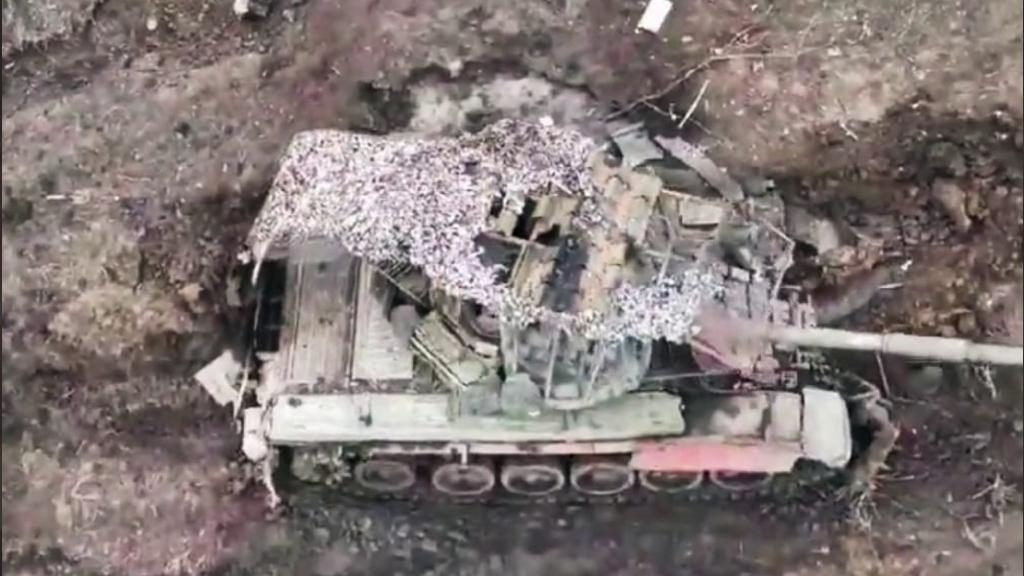TANK: (234, 110, 1021, 501)
